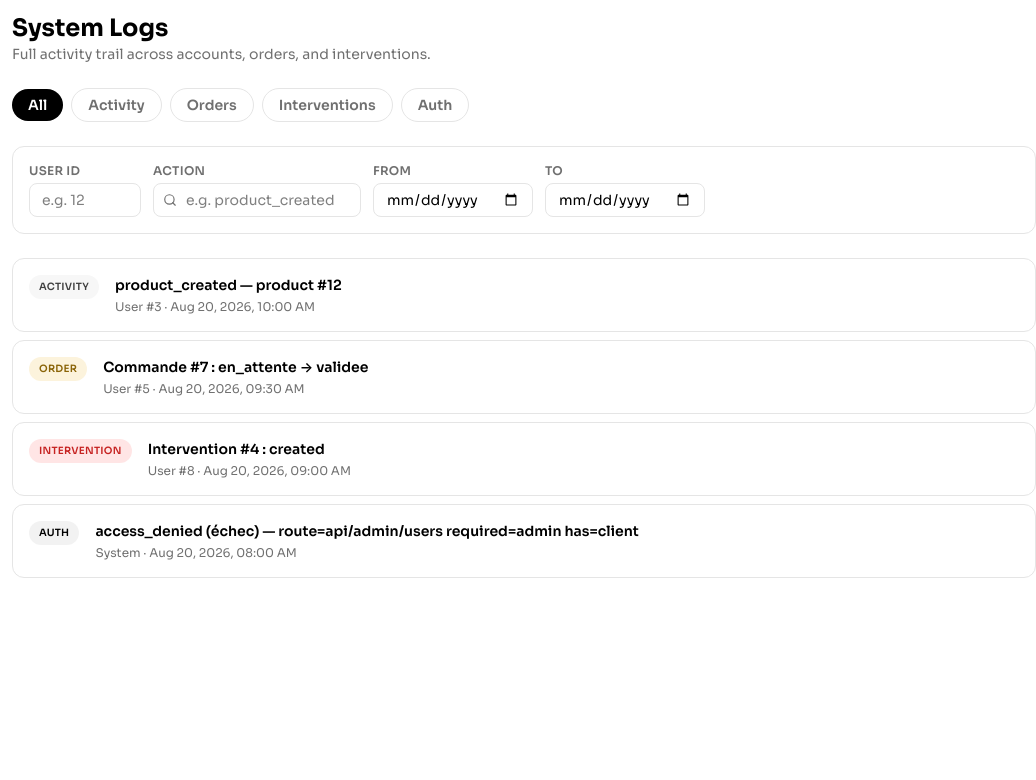
Admin AdminLogs › shows a filtered empty state with a reset option when filters are active
Expected: the text "product_created — product #12" is shown, [115, 276, 342, 294]
Click the button "Orders" at coordinates (212, 105), box [170, 88, 254, 122]
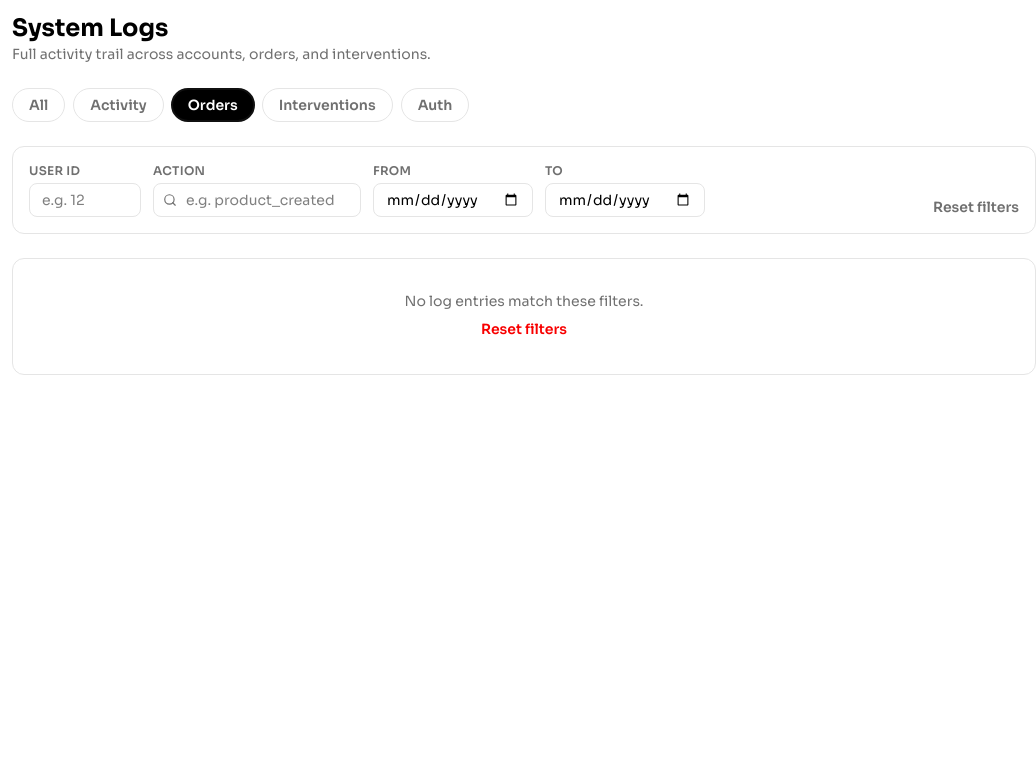
Expected: the text "No log entries match these filters." is shown, [404, 292, 643, 310]
Expected: the 1st button "Reset filters" is shown, [933, 197, 1019, 217]
